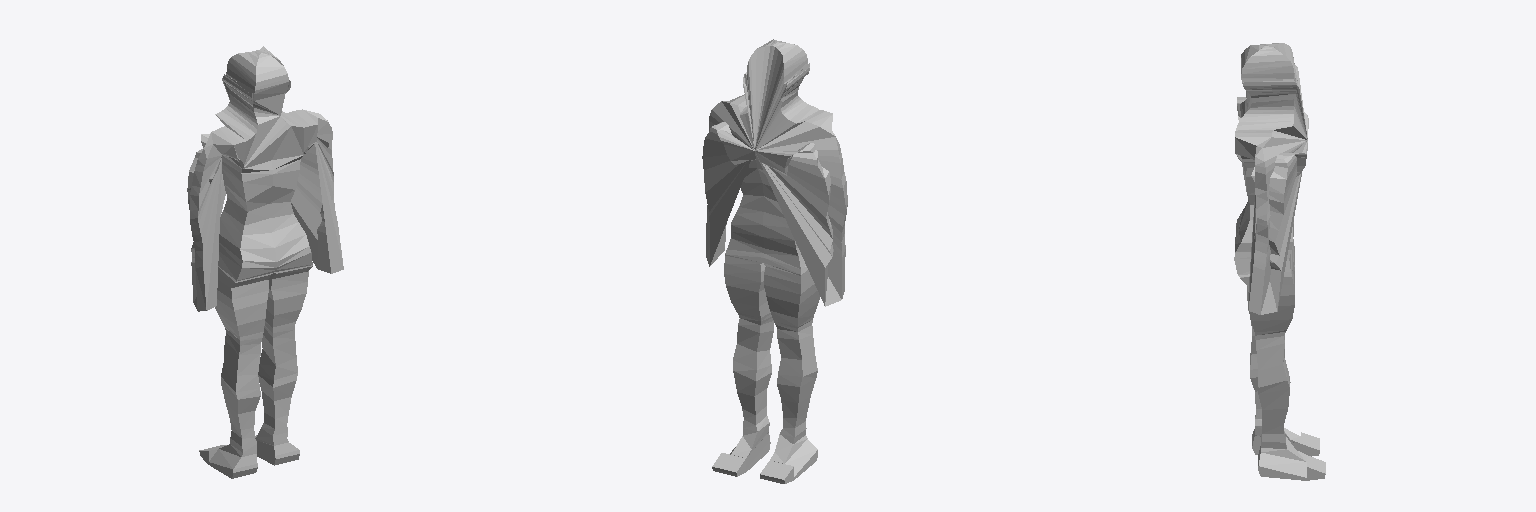
File: woman_000045.obj
The picture shows the model from 3 angles: view 1: azimuth 30°, elevation 25°; view 2: azimuth 150°, elevation 25°; view 3: azimuth 270°, elevation 25°; orthographic projection.
Parts seen in each view (by area): view 1: Cube_Cube.001; view 2: Cube_Cube.001; view 3: Cube_Cube.001.
Boxes of the visible parts, <box> form: Cube_Cube.001: <box>187,46,343,478</box>; Cube_Cube.001: <box>702,39,847,483</box>; Cube_Cube.001: <box>1234,43,1325,480</box>.
Bounding box in the file's own units: 3.62 × 10.01 × 1.99.